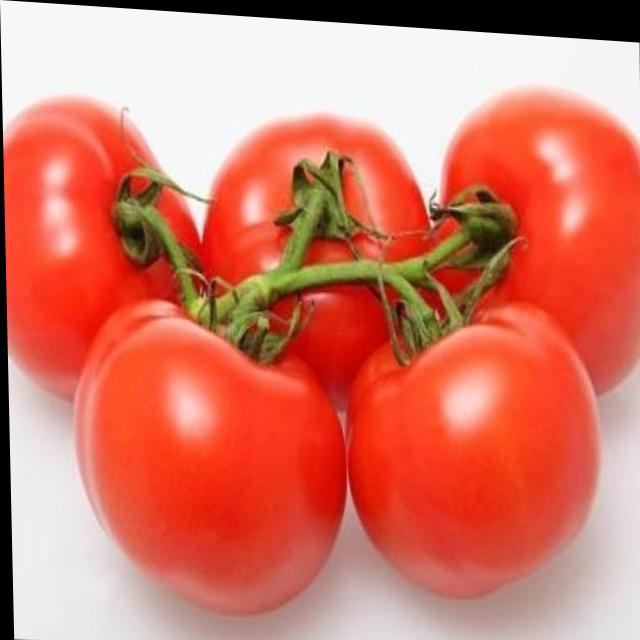kirmizi: (4, 92, 628, 630)
